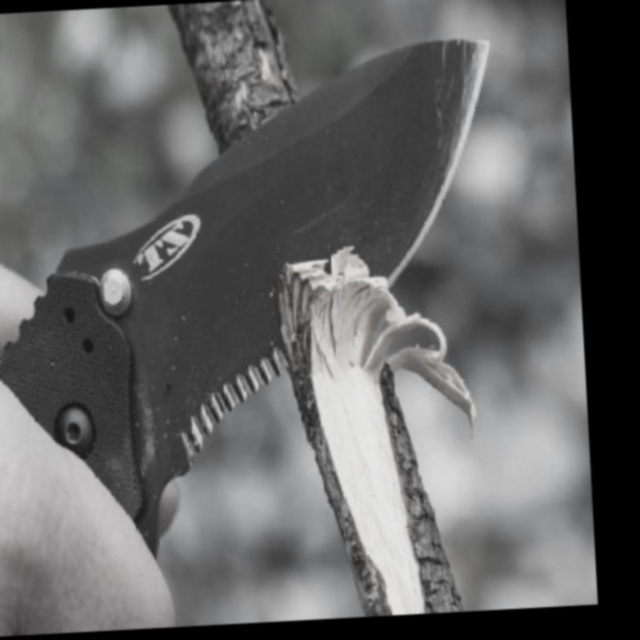Sharp-Object: (0, 36, 515, 567)
